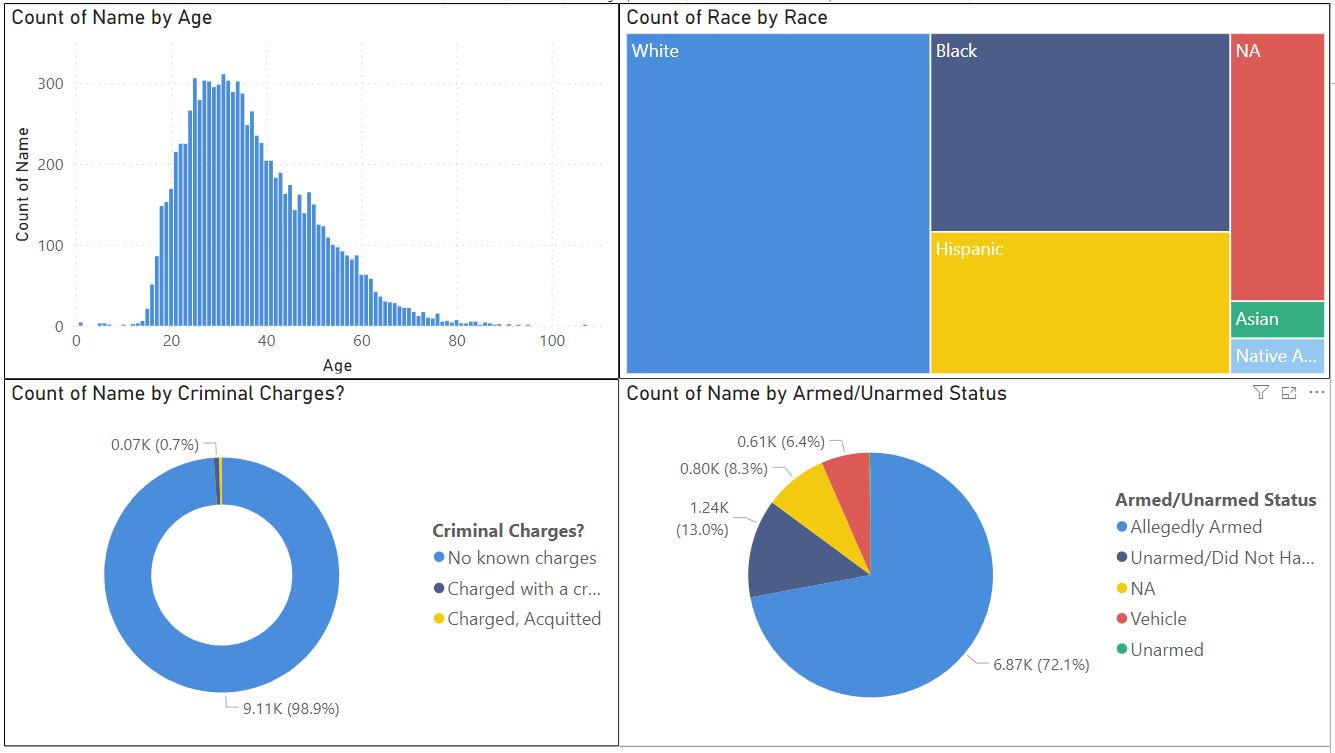

The page's visual inventory and layout, read from the dashboard file:
{"tool":"powerbi","page":{"name":"Page 1","canvas":[1280,720],"ordinal":0},"visuals":[{"type":"clusteredColumnChart","fields":{"Category":["Data Corrected.Age"],"Y":["CountNonNull(Data Corrected.Name)"]},"box":[9.6,0,589.2,360.2],"z":0},{"type":"treemap","fields":{"Group":["Data Corrected.Race"],"Values":["CountNonNull(Data Corrected.Race)"]},"box":[598.8,0,681.2,360.2],"z":1000},{"type":"donutChart","fields":{"Category":["Data Corrected.Criminal Charges?"],"Y":["Count(Data Corrected.Name)"]},"box":[9.6,360.2,589.2,351.6],"z":2000},{"type":"pieChart","fields":{"Category":["Data Corrected.Armed/Unarmed Status"],"Y":["CountNonNull(Data Corrected.Name)"]},"box":[598.8,360.2,681.2,351.6],"z":3000}]}

Visuals, with their boxes in screenshot pixels (x1, y1, x2, y2), scaled from the page's 1280x720 canvas onto the 1335x753 screenshot:
clusteredColumnChart - Data Corrected.Age x CountNonNull(Data Corrected.Name): 10,0,625,377
treemap - Data Corrected.Race x CountNonNull(Data Corrected.Race): 625,0,1334,377
donutChart - Data Corrected.Criminal Charges? x Count(Data Corrected.Name): 10,377,625,744
pieChart - Data Corrected.Armed/Unarmed Status x CountNonNull(Data Corrected.Name): 625,377,1334,744
